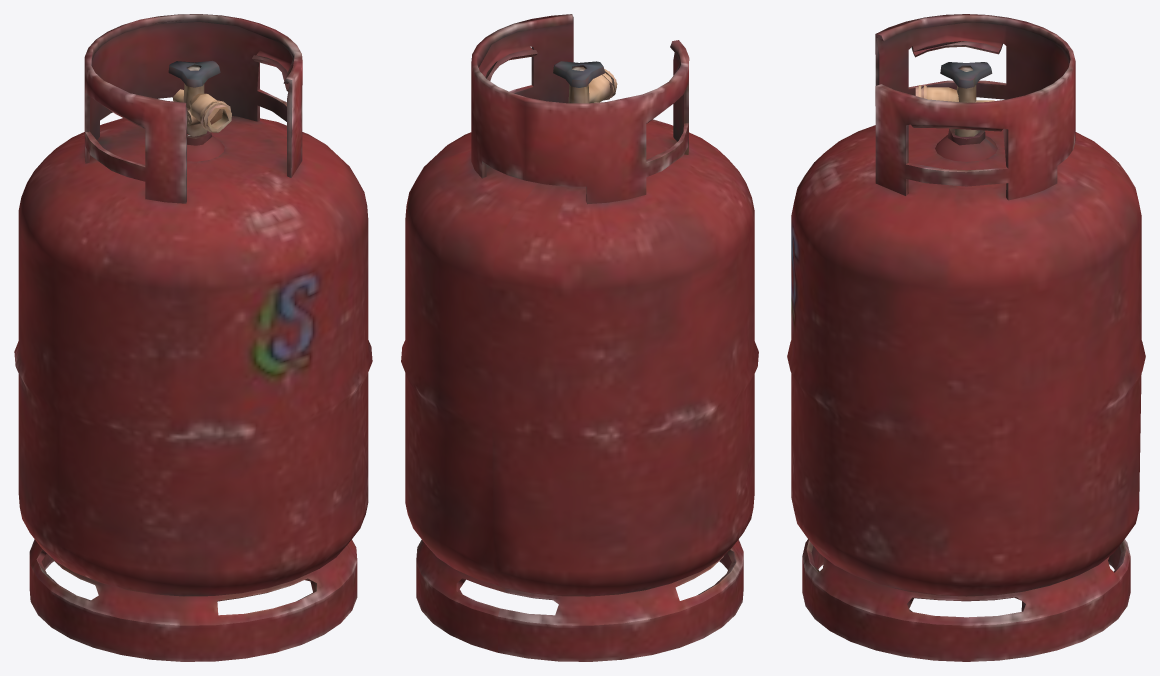
File: propane_tank.gltf
3 renders of one model, left to right at view 1: azimuth 30°, elevation 25°; view 2: azimuth 150°, elevation 25°; view 3: azimuth 270°, elevation 25°, orthographic.
Visible parts, largest first — view 1: propane_tank; view 2: propane_tank; view 3: propane_tank.
Boxes of the visible parts, x1,y1,x2,y2 form: propane_tank: [14, 14, 372, 661]; propane_tank: [401, 14, 758, 661]; propane_tank: [787, 14, 1145, 661].
Size of the model in its own units: 0.3374 by 0.5537 by 0.3374.
1 material, 1 textured.
